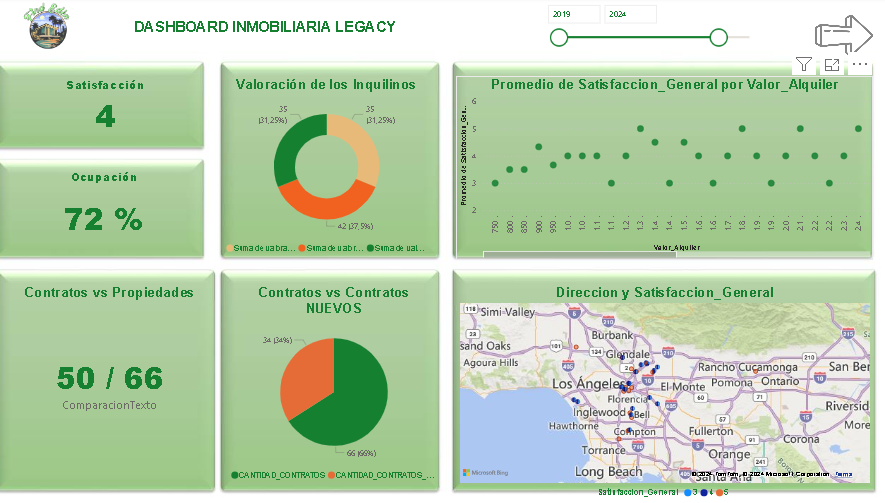

The page's visual inventory and layout, read from the dashboard file:
{"tool":"powerbi","page":{"name":"Principal","canvas":[1280,720],"ordinal":0},"visuals":[{"type":"card","title":"Satisfacción ","fields":{"Values":["legacy_inmobiliaria contratos.Promedio_satisfacc"]},"box":[105.7,111.6,134,86.3],"z":0},{"type":"map","fields":{"Category":["legacy_inmobiliaria propiedades.Direccion"],"Series":["legacy_inmobiliaria contratos.Satisfaccion_General"]},"box":[669.8,406.8,591.8,313.5],"z":1000},{"type":"image","box":[0,1.4,180,82.2],"z":2000},{"type":"textbox","box":[157.3,25.5,483.3,55.3],"z":3000},{"type":"card","title":"Contratos vs Propiedades","fields":{"Values":["legacy_inmobiliaria propiedades.ComparacionTexto"]},"box":[31.4,406.6,296.8,261.5],"z":4000},{"type":"donutChart","title":"Valoración de los Inquilinos","fields":{"Y":["Sum(legacy_inmobiliaria inquilinos.valoracion_rec)","Sum(legacy_inmobiliaria inquilinos.valoracion_rel)","Sum(legacy_inmobiliaria inquilinos.valoracion_res)"]},"box":[334.9,111.6,305.1,262],"z":5000},{"type":"card","title":"Ocupación","fields":{"Values":["legacy_inmobiliaria publicaciones_alquileres.Ocupación Actual"]},"box":[59.5,242.8,224,117.5],"z":7000},{"type":"slicer","fields":{"Values":["calendario.año"]},"box":[787.6,1.5,321.1,82.6],"z":8000},{"type":"actionButton","box":[1179.1,26,82.6,58.1],"z":9000},{"type":"scatterChart","fields":{"X":["legacy_inmobiliaria contratos.Valor_Alquiler"],"Y":["Avg(legacy_inmobiliaria contratos.Satisfaccion_General)"]},"box":[669.8,111.6,591.8,261.5],"z":10000},{"type":"pieChart","title":"Contratos vs Contratos NUEVOS","fields":{"Y":["legacy_inmobiliaria contratos.CANTIDAD_CONTRATOS","legacy_inmobiliaria contratos.CANTIDAD_CONTRATOS_NUEVOS"]},"box":[343.9,406.6,305.9,288.9],"z":10001}]}

Visuals, with their boxes in screenshot pixels (x1, y1, x2, y2), scaled from the page's 1280x720 canvas onto the 885x503 screenshot:
"Satisfacción " card: <region>73, 78, 166, 138</region>
map - legacy_inmobiliaria propiedades.Direccion x legacy_inmobiliaria contratos.Satisfaccion_General: <region>463, 284, 872, 502</region>
image: <region>0, 1, 124, 58</region>
textbox: <region>109, 18, 443, 56</region>
"Contratos vs Propiedades" card: <region>22, 284, 227, 467</region>
"Valoración de los Inquilinos" donutChart: <region>232, 78, 442, 261</region>
"Ocupación" card: <region>41, 170, 196, 252</region>
slicer - calendario.año: <region>545, 1, 767, 59</region>
actionButton: <region>815, 18, 872, 59</region>
scatterChart - legacy_inmobiliaria contratos.Valor_Alquiler x Avg(legacy_inmobiliaria contratos.Satisfaccion_General): <region>463, 78, 872, 261</region>
"Contratos vs Contratos NUEVOS" pieChart: <region>238, 284, 449, 486</region>
